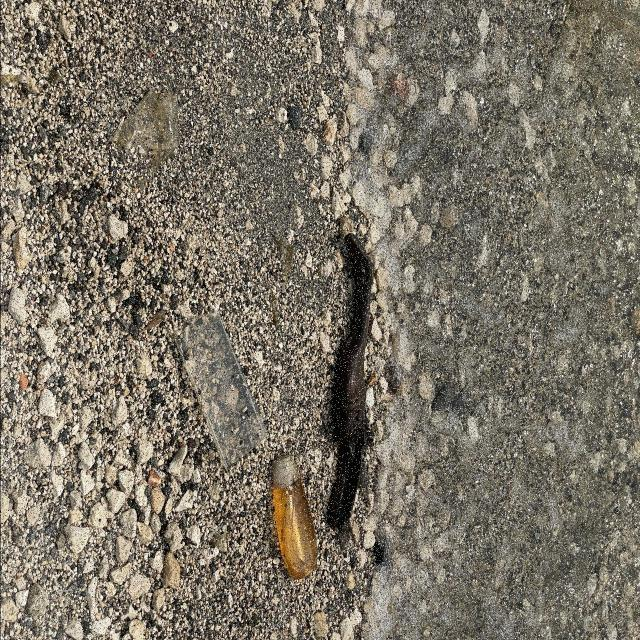plastic_waste: (270, 455, 320, 583)
wood_waste: (325, 233, 375, 531)
